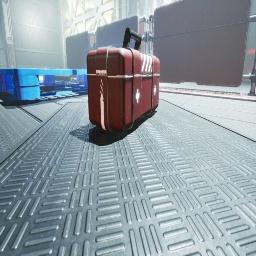FirstAidBox ,: (86, 28, 160, 133)
